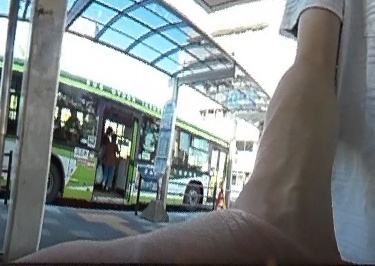person: (105, 131, 117, 189)
